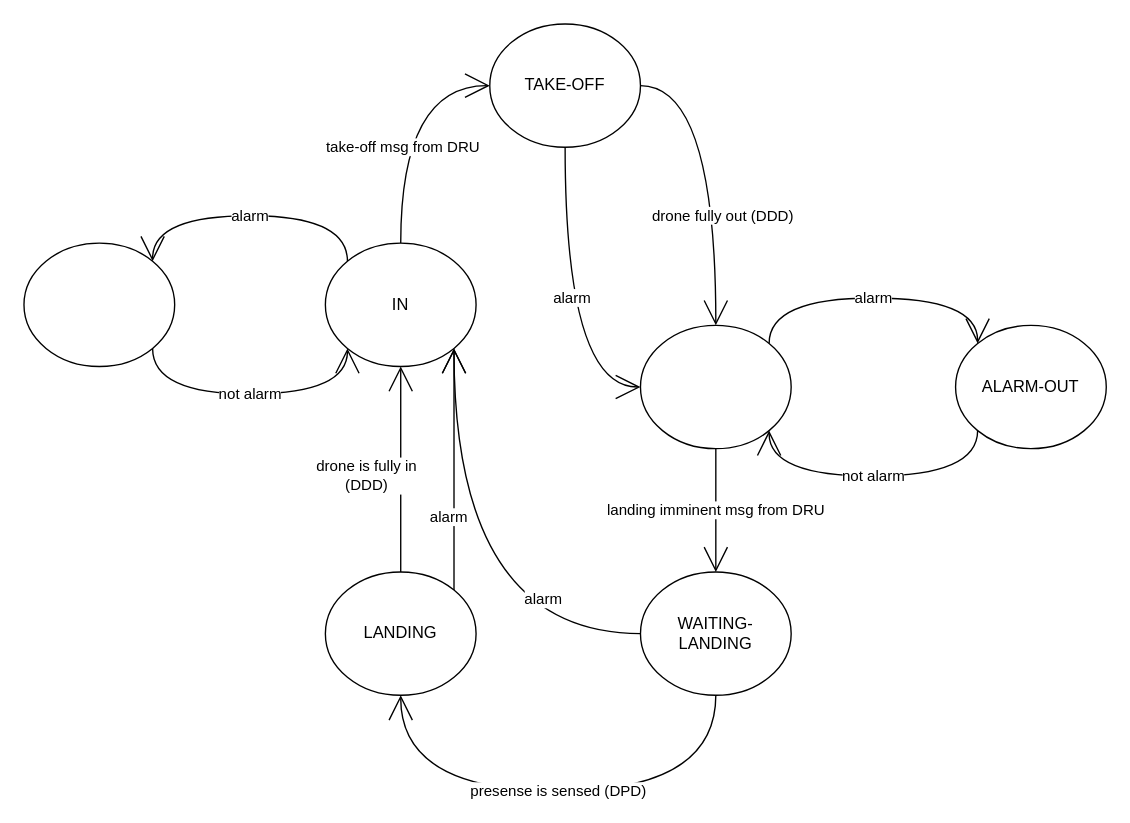
This 1130x823 diagram has some shape labels left out. Each missing label, with the box of its shape:
ALARM-IN: (23, 242, 175, 366)
OUT: (639, 324, 791, 449)
